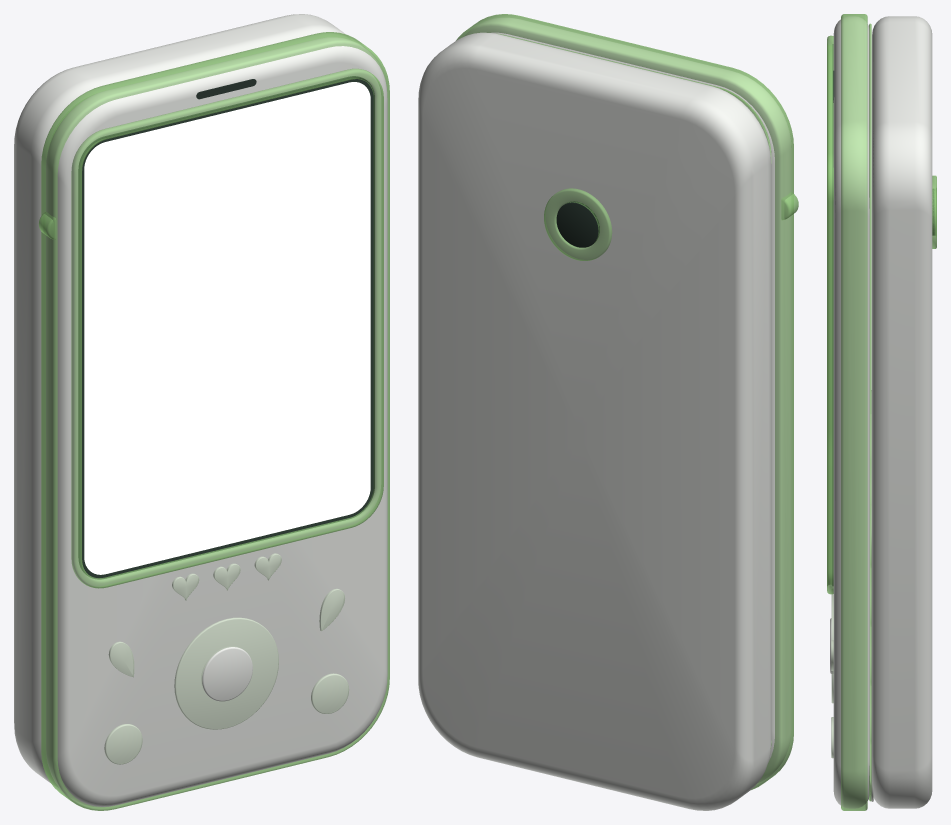
The model's file is phone.glb.
3 views of the same model, side by side, from view 1: azimuth 30°, elevation 25°; view 2: azimuth 150°, elevation 25°; view 3: azimuth 270°, elevation 25° (orthographic). The views are drawn at different scales.
Visible parts, largest first — view 1: top_body, screen, base; view 2: base, top_body; view 3: base, top_body.
Part boxes in pixels (bbox=[...]): top_body: bbox=[38, 32, 389, 810]; screen: bbox=[84, 82, 370, 574]; base: bbox=[14, 14, 345, 782]; base: bbox=[418, 32, 771, 810]; top_body: bbox=[456, 14, 798, 789]; base: bbox=[871, 16, 936, 808]; top_body: bbox=[827, 14, 871, 810].
Size of the model in its own units: 5.14 by 10.26 by 1.49.
